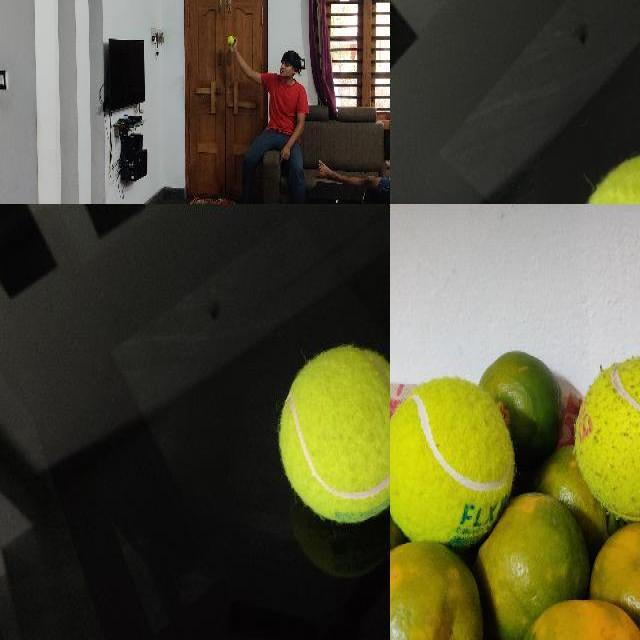tennis-ball: (278, 345, 389, 523), (390, 376, 487, 538), (573, 355, 639, 521), (227, 36, 233, 44)
